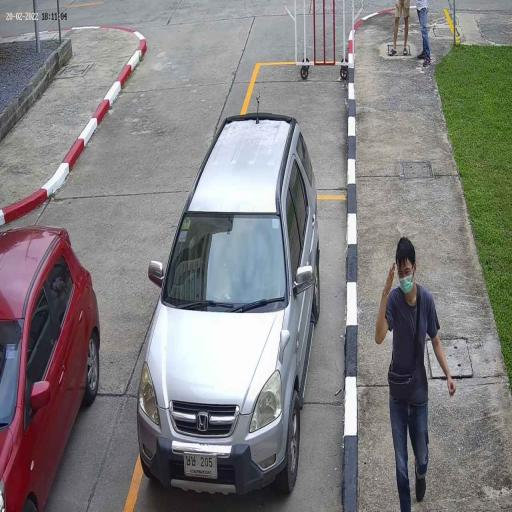car: (136, 111, 321, 501), (0, 225, 101, 512)
